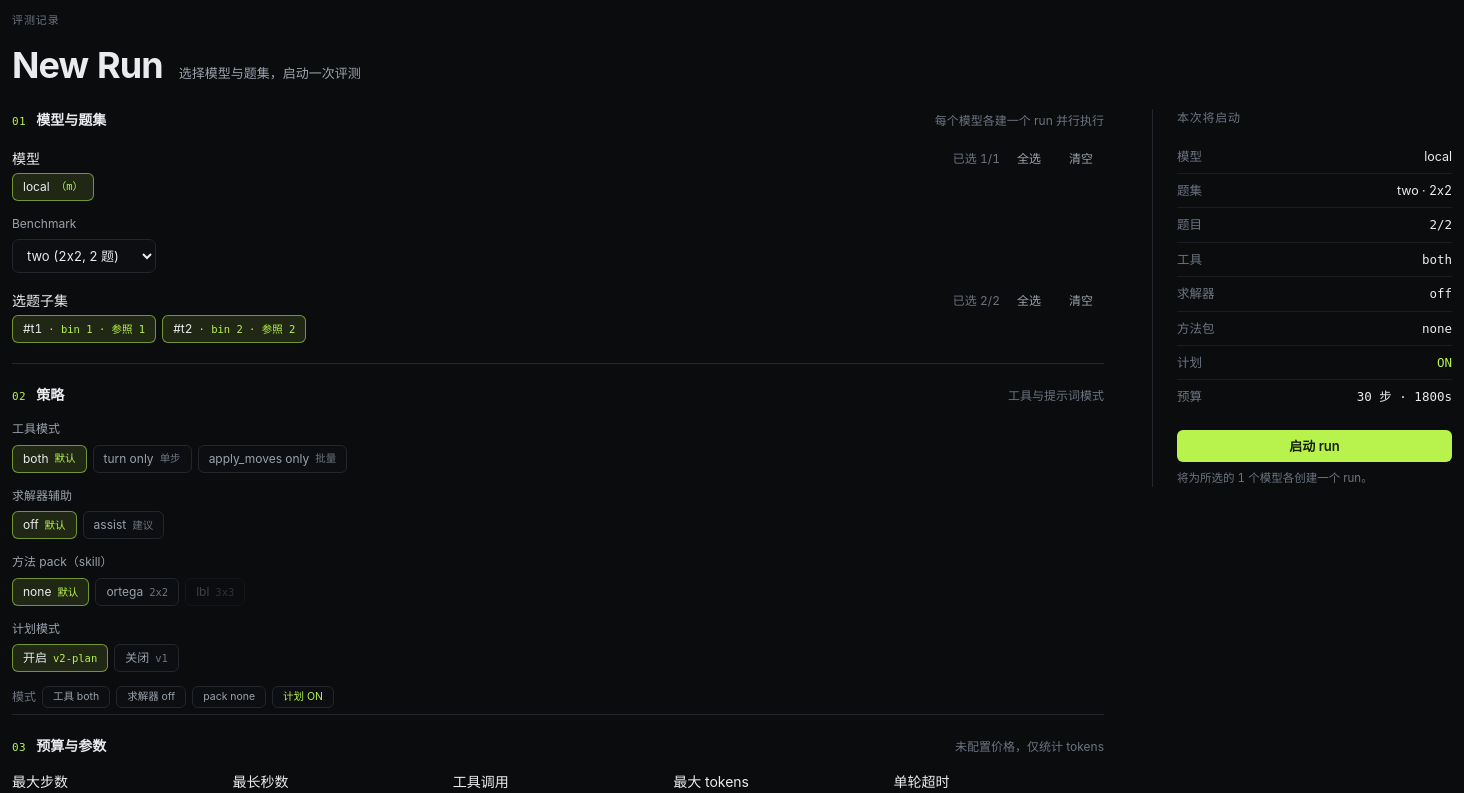
Test: NewRunView › 模式摘要徽章随选择联动
This screenshot has width=1464, height=793.
Expected: the element with test id "newrun-mode-summary" shows "计划 ON", 12,686 -> 334,708
Click the radio button labelled "关闭 v1" at (147, 658), box 114,644 -> 179,672
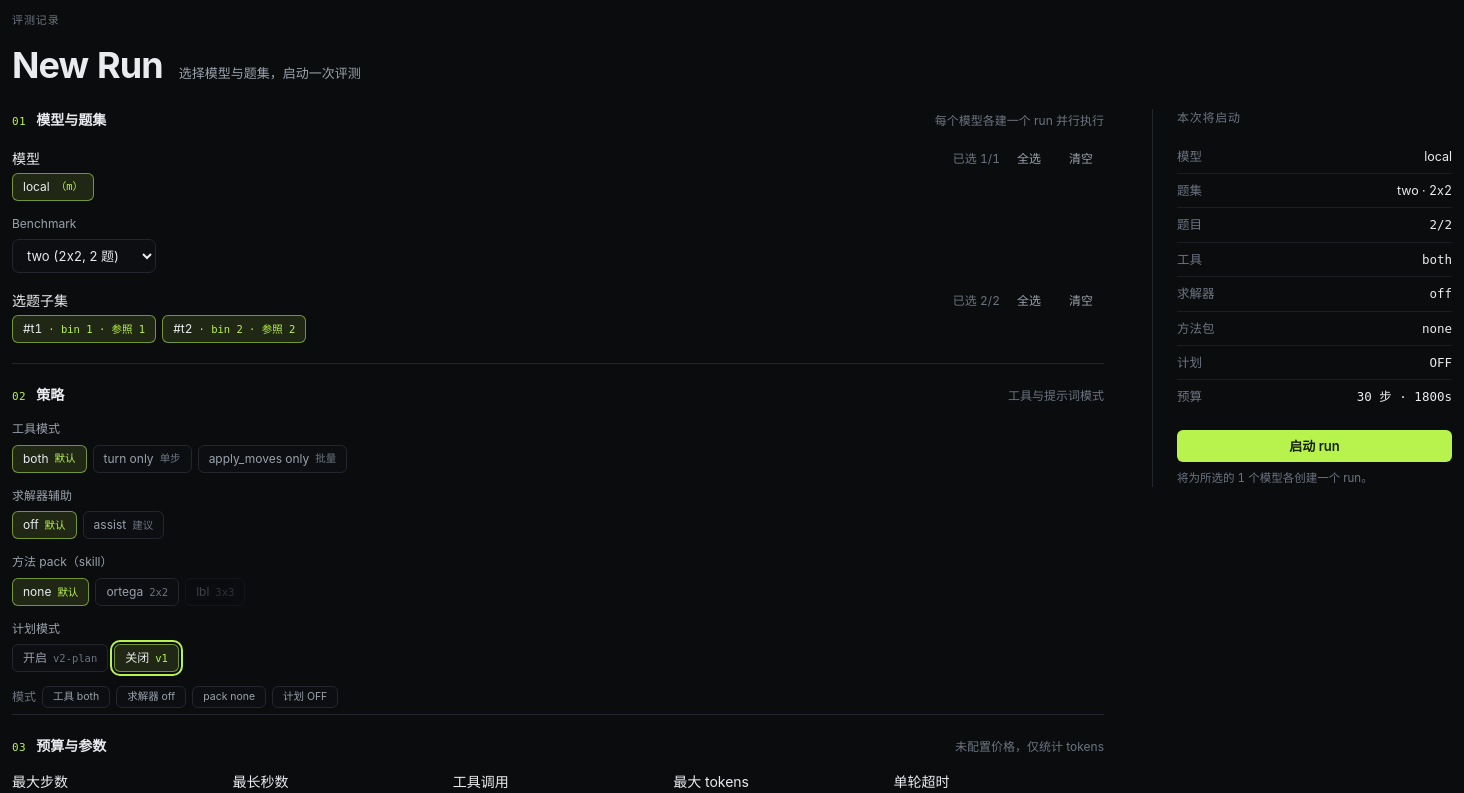
Expected: the element with test id "newrun-mode-summary" shows "计划 OFF", 12,686 -> 338,708
Click the radio button labelled "assist 建议" at (123, 525), box 83,511 -> 164,539
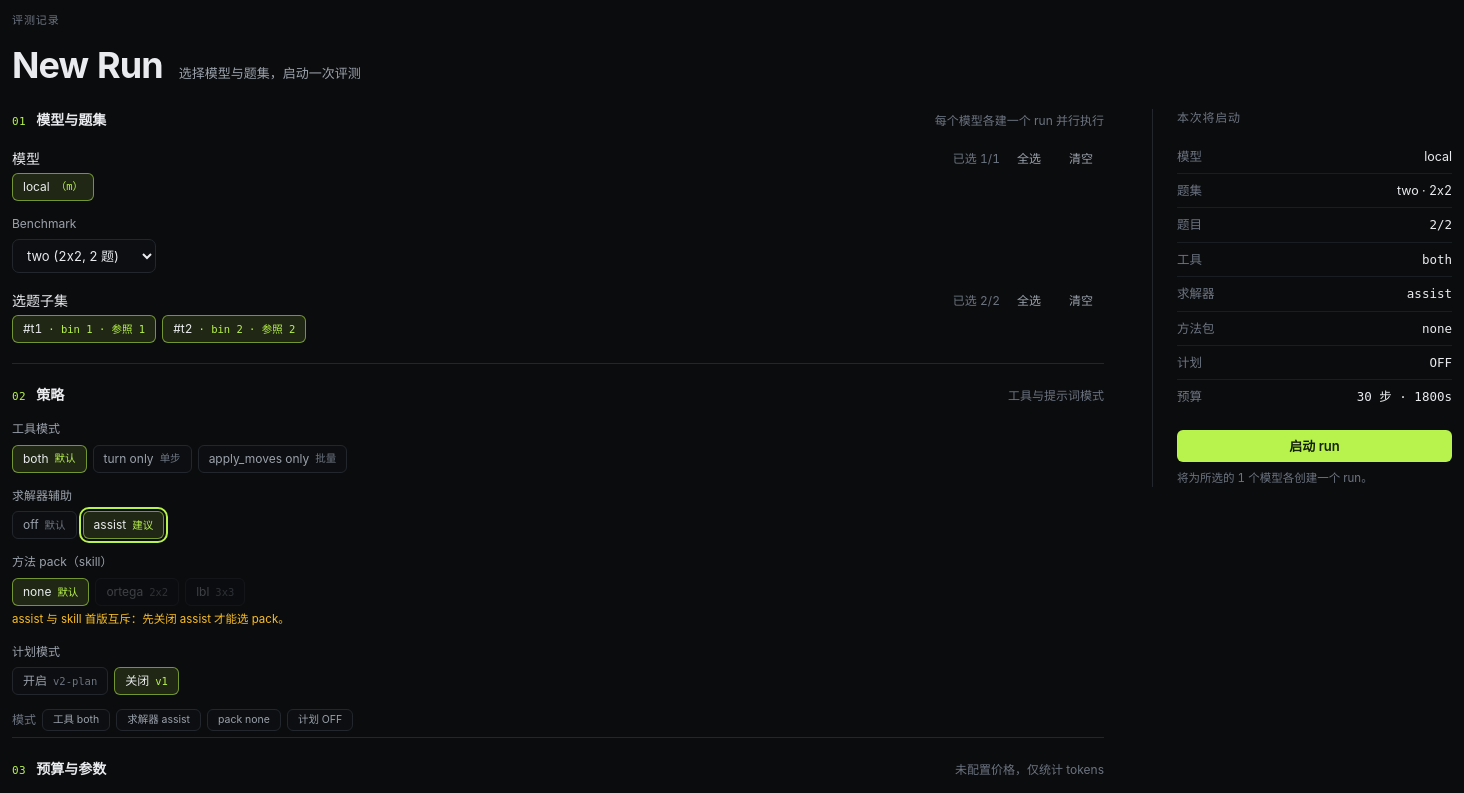
Expected: the element with test id "newrun-mode-summary" shows "求解器 assist", 12,709 -> 353,731
